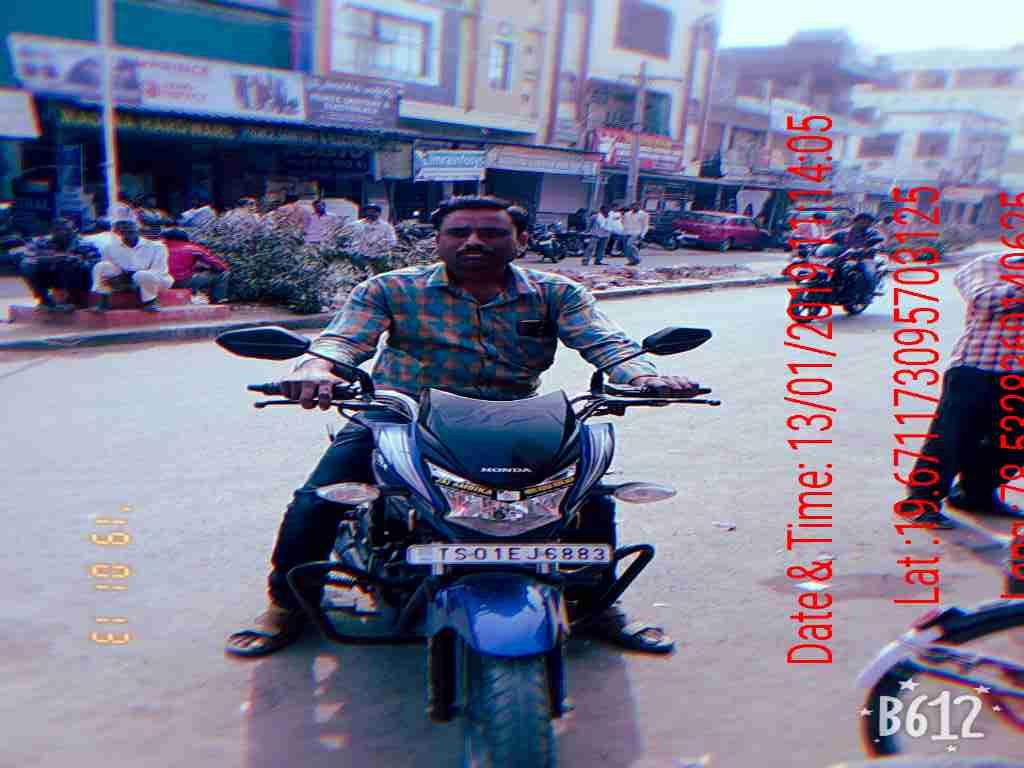plate: (402, 535, 616, 571)
